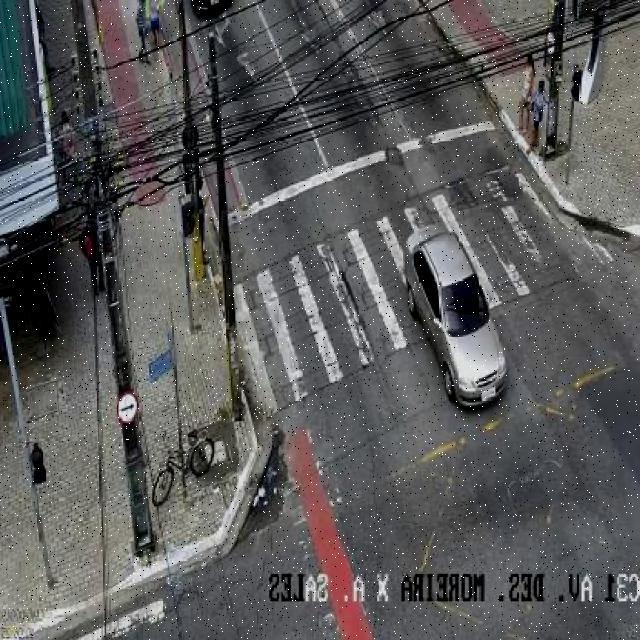Car: (409, 235, 510, 417)
